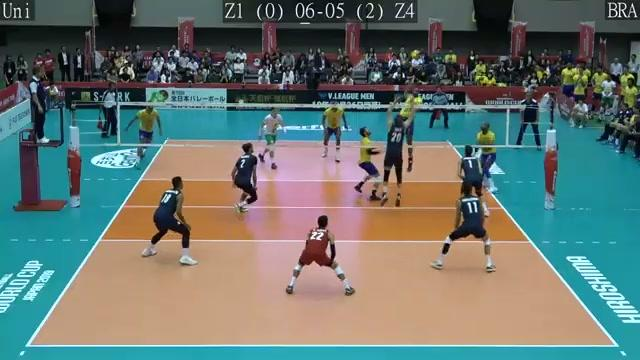ball: (407, 49, 422, 61)
